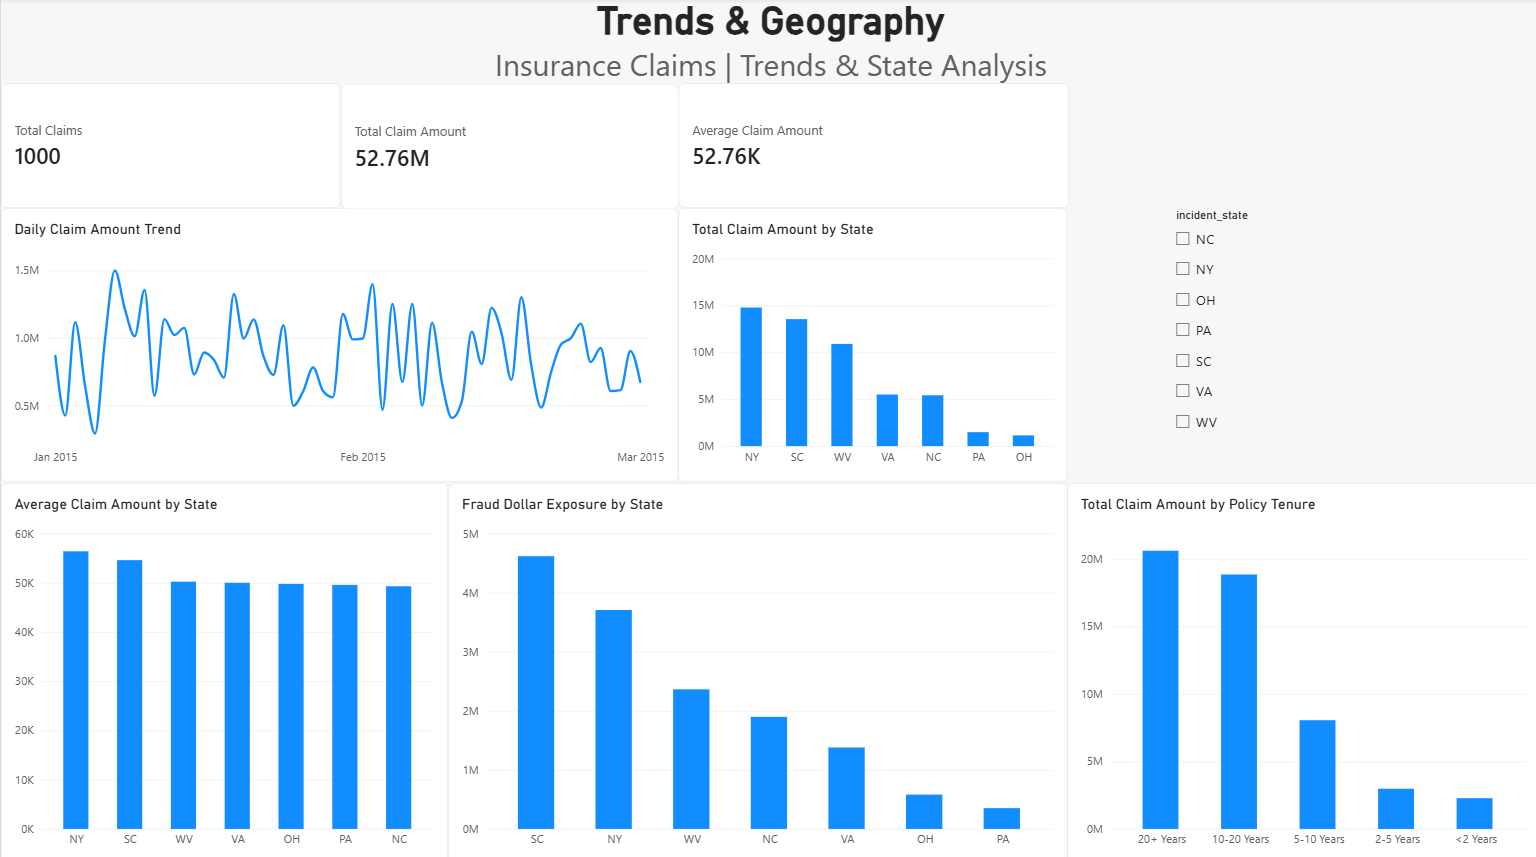

The page's visual inventory and layout, read from the dashboard file:
{"tool":"powerbi","page":{"name":"Trends & Geography","canvas":[1920,1080],"ordinal":2},"visuals":[{"type":"clusteredColumnChart","title":"Total Claim Amount by State","fields":{"Category":["dim_incident.incident_state"],"Y":["Sum(fact_claims.total_claim_amount)"]},"box":[844.5,262.4,485.1,341.8],"z":0},{"type":"clusteredColumnChart","title":"Average Claim Amount by State","fields":{"Category":["dim_incident.incident_state"],"Y":["Avg(fact_claims.total_claim_amount)"]},"box":[0,604.1,557.8,476.3],"z":1},{"type":"lineChart","title":"Daily Claim Amount Trend","fields":{"Category":["dim_date.full_date"],"Y":["Sum(fact_claims.total_claim_amount)"]},"box":[0,262.4,844.5,341.8],"z":2},{"type":"clusteredColumnChart","title":"Total Claim Amount by Policy Tenure","fields":{"Category":["dim_policy.tenure_group"],"Y":["Sum(fact_claims.total_claim_amount)"]},"box":[1329.5,604.1,590.9,476.3],"z":3},{"type":"clusteredColumnChart","title":"Fraud Dollar Exposure by State","fields":{"Category":["dim_incident.incident_state"],"Y":["Sum(fact_claims.total_claim_amount)"]},"box":[557.8,604.1,771.7,476.3],"z":4},{"type":"cardVisual","fields":{"Data":["CountNonNull(fact_claims.claim_id)"]},"box":[0,105.8,423.3,156.5],"z":5},{"type":"cardVisual","fields":{"Data":["Sum(fact_claims.total_claim_amount)"]},"box":[423.3,108,421.1,156.5],"z":6},{"type":"cardVisual","fields":{"Data":["Avg(fact_claims.total_claim_amount)"]},"box":[844.5,105.8,487.3,156.5],"z":7},{"type":"slicer","fields":{"Values":["dim_incident.incident_state"]},"box":[1457.4,262.4,332.9,299.9],"z":8},{"type":"textbox","title":"Trends & Geography","box":[0,0,1920.4,141.1],"z":9}]}

Visuals, with their boxes in screenshot pixels (x1, y1, x2, y2), scaled from the page's 1920x1080 canvas onto the 1536x857 screenshot:
"Total Claim Amount by State" clusteredColumnChart: (676,208,1064,479)
"Average Claim Amount by State" clusteredColumnChart: (0,479,446,856)
"Daily Claim Amount Trend" lineChart: (0,208,676,479)
"Total Claim Amount by Policy Tenure" clusteredColumnChart: (1064,479,1535,856)
"Fraud Dollar Exposure by State" clusteredColumnChart: (446,479,1064,856)
cardVisual - CountNonNull(fact_claims.claim_id): (0,84,339,208)
cardVisual - Sum(fact_claims.total_claim_amount): (339,86,676,210)
cardVisual - Avg(fact_claims.total_claim_amount): (676,84,1065,208)
slicer - dim_incident.incident_state: (1166,208,1432,446)
"Trends & Geography" textbox: (0,0,1535,112)
